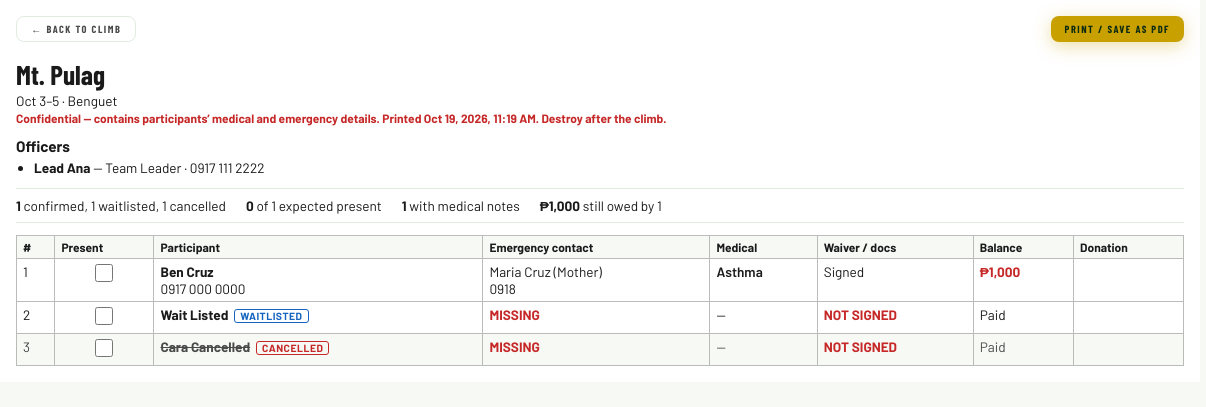
Scenario: Climb-day sheet › flags someone present who isn't confirmed and lets a lead confirm them
Click the checkbox named "Present: Wait Listed": (104, 316) [95,307,113,325]
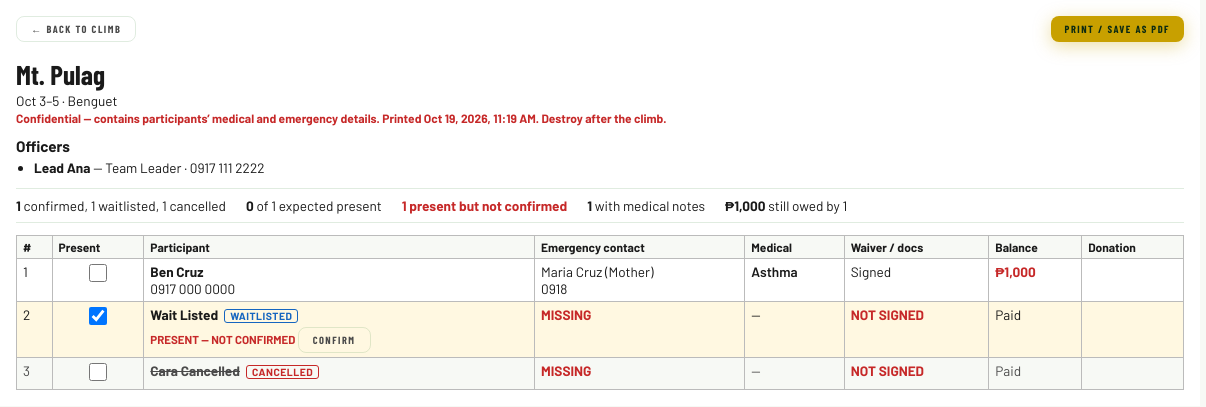
Check: the text "PRESENT — NOT CONFIRMED Confirm" is shown, box [150,327,370,353]
Check: the text "1 present but not confirmed" is shown, box [402,197,567,214]
Click the button "Confirm": (334, 340) [298,327,370,353]
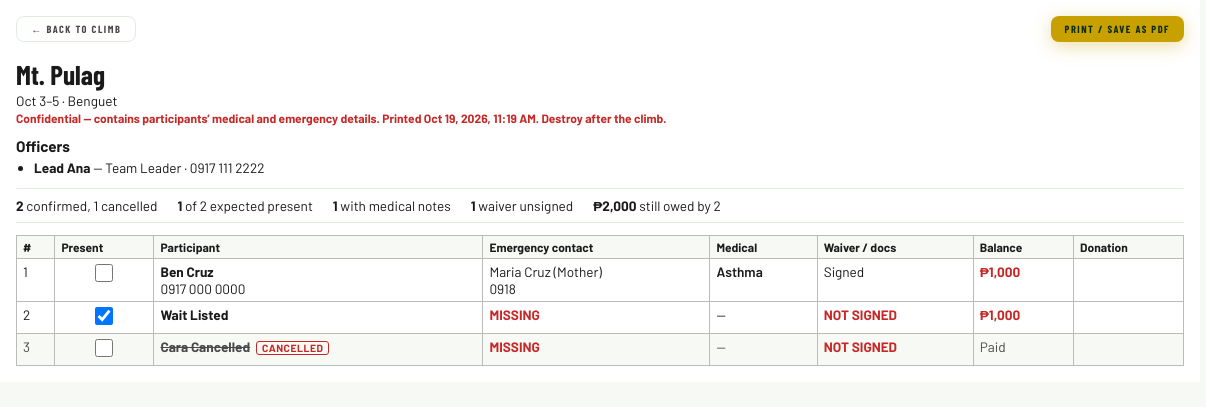
Check: the text "PRESENT — NOT CONFIRMED" is gone
